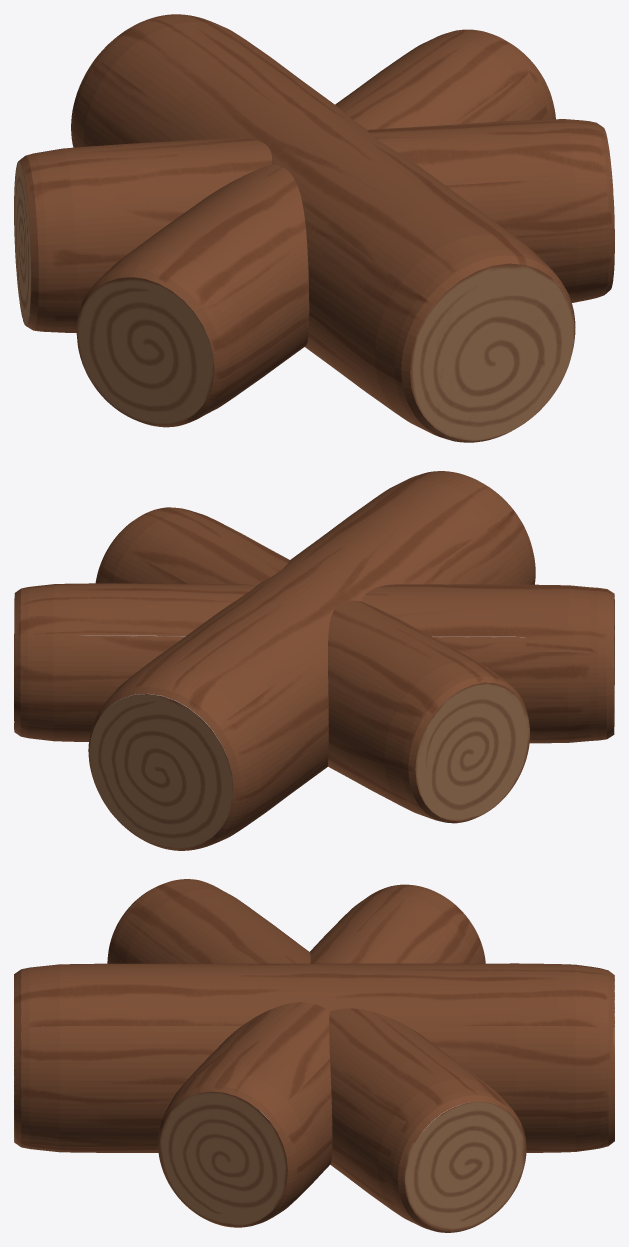
File: CampFire.glb
3 views of the same model, one above another, from view 1: azimuth 30°, elevation 25°; view 2: azimuth 150°, elevation 25°; view 3: azimuth 270°, elevation 25° (orthographic). The views are drawn at different scales.
Parts seen in each view (by area): view 1: Cylinder; view 2: Cylinder; view 3: Cylinder.
Boxes of the visible parts, bbox=[...] form: Cylinder: bbox=[14, 14, 614, 442]; Cylinder: bbox=[14, 471, 614, 850]; Cylinder: bbox=[14, 879, 614, 1232].
Bounding box in the file's own units: 3.47 × 1.12 × 3.53.
1 material, 1 textured.
